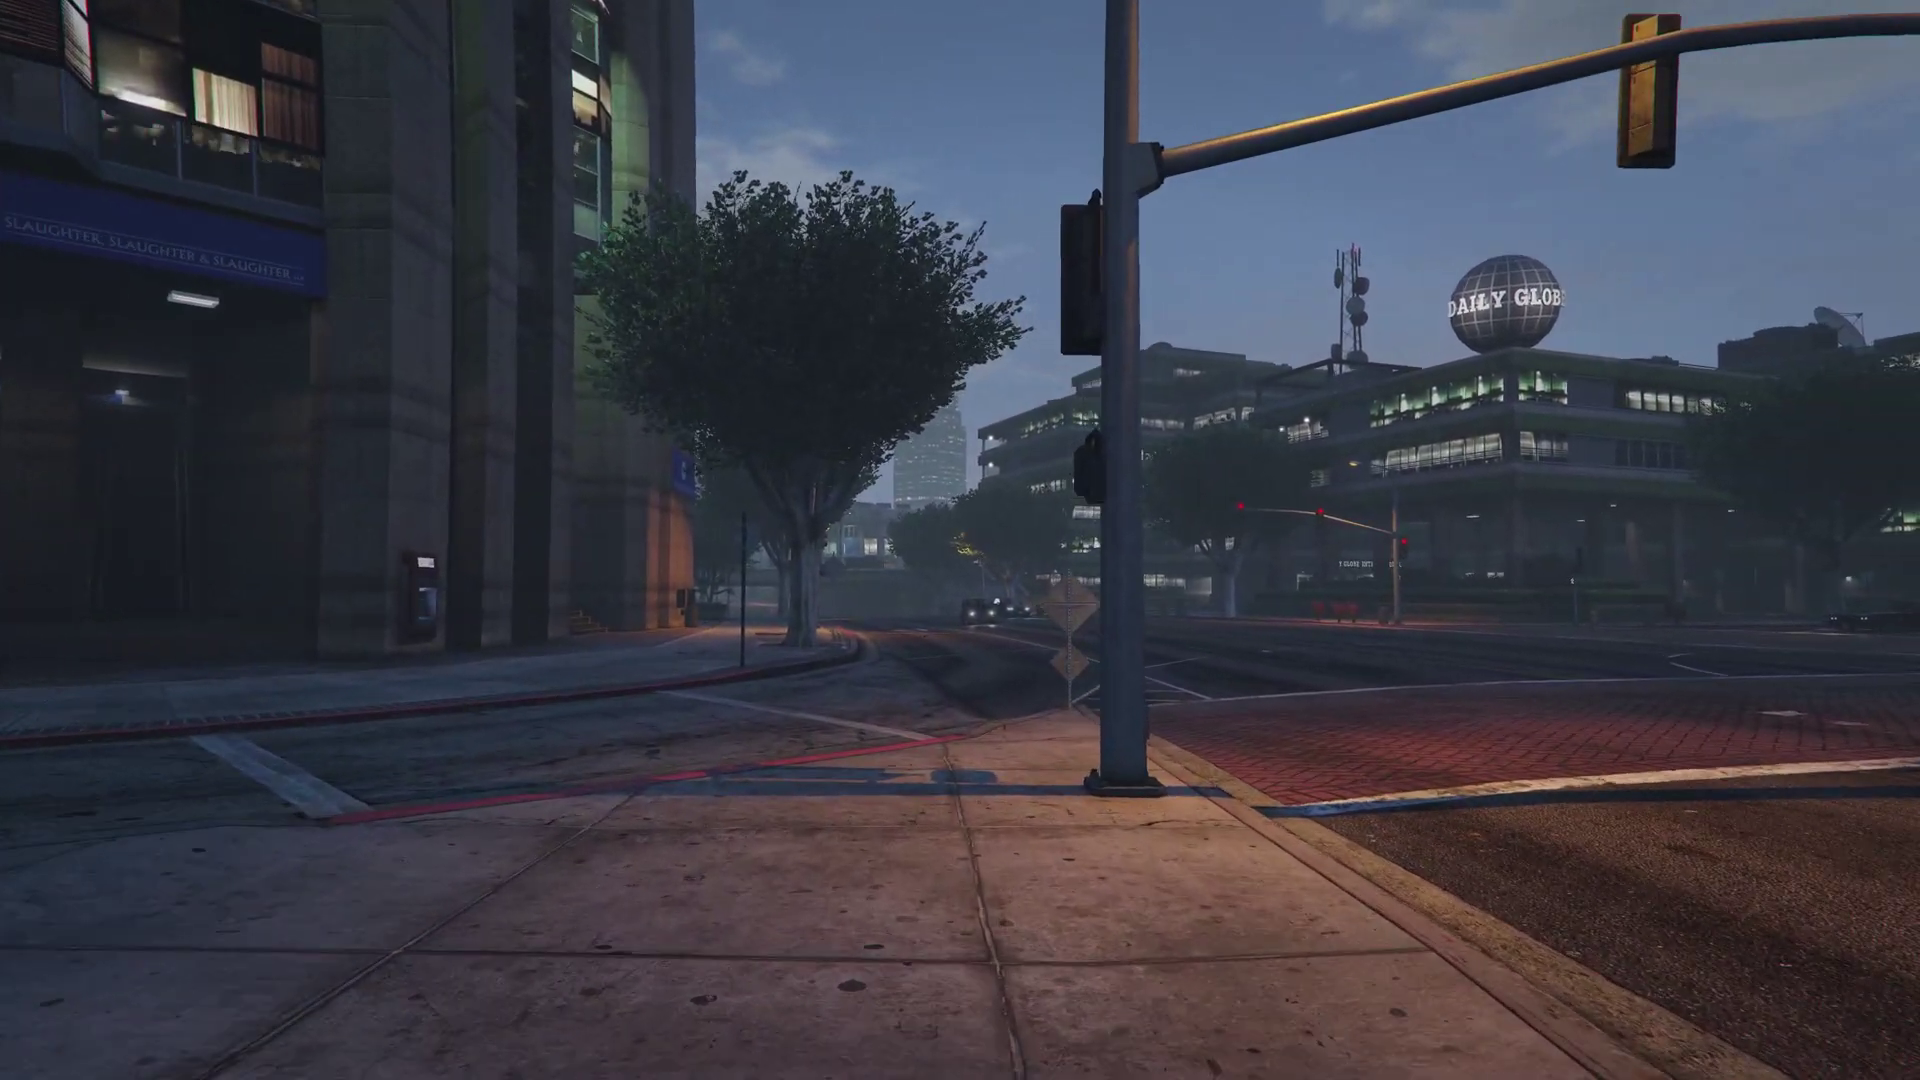car: (960, 597, 994, 626), (997, 600, 1030, 618)
traffic light: (1618, 12, 1679, 164), (1062, 203, 1112, 357), (1080, 431, 1100, 505), (1313, 505, 1325, 531), (1234, 502, 1245, 524), (1398, 538, 1410, 556)
